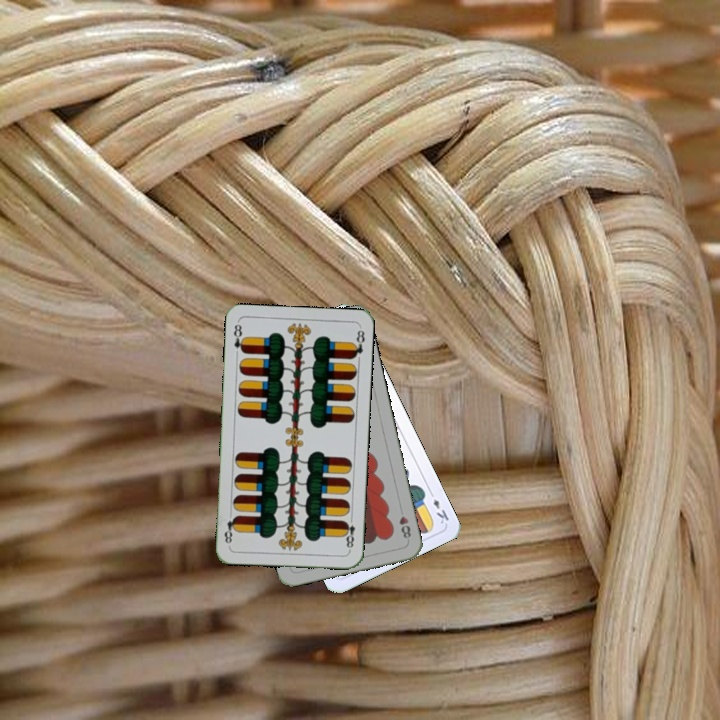E8: (229, 319, 248, 356), (340, 513, 357, 553)
EK: (425, 487, 451, 527)
H8: (395, 503, 413, 541)
